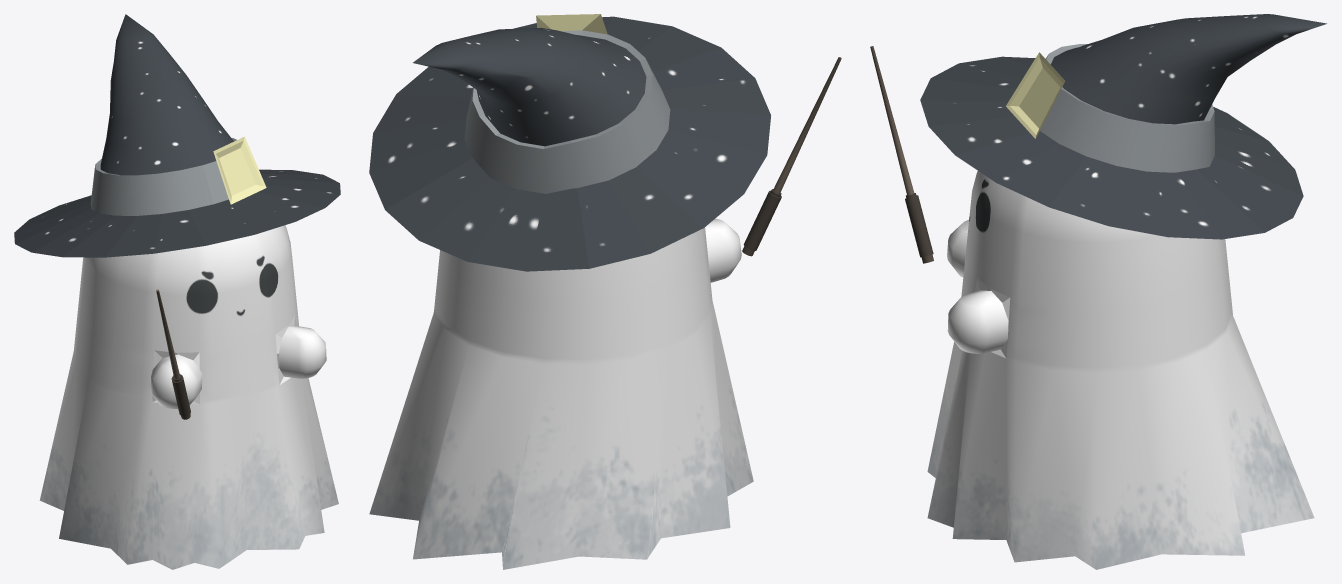
Rendered from Wizard2.fbx.
3 views of the same model, side by side, from view 1: azimuth 30°, elevation 25°; view 2: azimuth 150°, elevation 25°; view 3: azimuth 270°, elevation 25° (orthographic). The views are drawn at different scales.
Parts seen in each view (by area): view 1: pCylinder2; view 2: pCylinder2; view 3: pCylinder2.
Part boxes in pixels (x1,y1,x2,y2): pCylinder2: [14, 14, 340, 569]; pCylinder2: [369, 14, 841, 569]; pCylinder2: [870, 14, 1326, 569].
Bounding box in the file's own units: 5.67 × 7.76 × 6.55.
